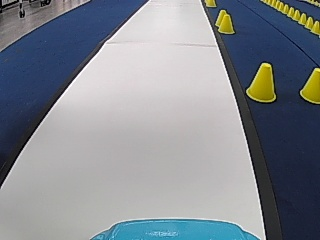cone: (246, 61, 276, 102), (299, 67, 320, 103), (218, 13, 235, 34), (215, 10, 228, 26), (311, 21, 319, 34), (305, 17, 313, 28), (298, 13, 306, 24), (292, 10, 300, 20), (287, 7, 294, 16), (282, 4, 289, 13)
